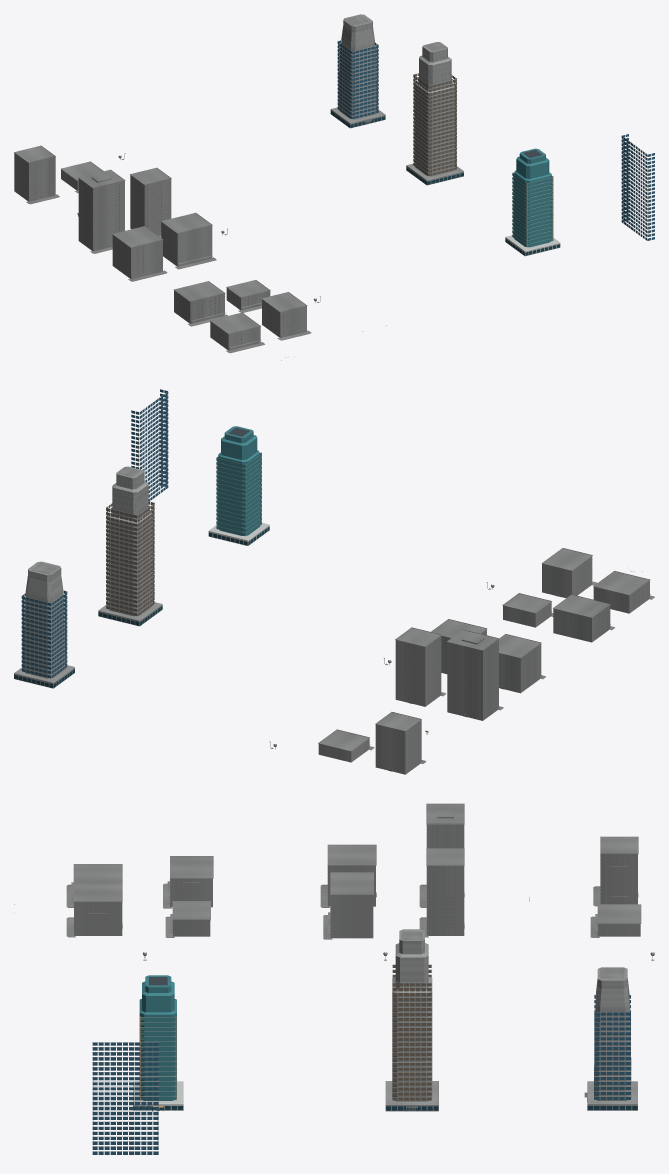
The model's file is cell_2_-2_lod1.gltf.
The picture shows the model from 3 angles, top to bottom: view 1: azimuth 30°, elevation 25°; view 2: azimuth 150°, elevation 25°; view 3: azimuth 270°, elevation 25°; orthographic projection. The views are drawn at different scales.
Visible parts, largest first — view 1: GIDI_VICTORIA_ISLAND_CBD_V2_MESH, EKO_HARBOUR_HOTEL_01, EKO_BATCH_EKO_|_deep_Atlantic_blue_glass, EKO_ENTRY_DOOR_EKO_RESIDENCE_COURT_01, EKO_BATCH_EKO_|_smoked_bronze_glass, EKO_RETAIL_PODIUM_EKO_RESIDENCE_COURT_01, EKO_ENTRY_PIER_A_EKO_HARBOUR_HOTEL_01, EKO_BATCH_EKO_|_retail_storefront_glass; view 2: GIDI_VICTORIA_ISLAND_CBD_V2_MESH, EKO_HARBOUR_HOTEL_01, EKO_BATCH_EKO_|_deep_Atlantic_blue_glass, EKO_ENTRY_DOOR_EKO_RESIDENCE_COURT_01, EKO_BATCH_EKO_|_smoked_bronze_glass, EKO_RETAIL_PODIUM_EKO_RESIDENCE_COURT_01, EKO_ENTRY_PIER_A_EKO_HARBOUR_HOTEL_01, EKO_BATCH_EKO_|_retail_storefront_glass; view 3: GIDI_VICTORIA_ISLAND_CBD_V2_MESH, EKO_BATCH_EKO_|_deep_Atlantic_blue_glass, EKO_HARBOUR_HOTEL_01, EKO_RETAIL_PODIUM_EKO_RESIDENCE_COURT_01, EKO_ENTRY_DOOR_EKO_RESIDENCE_COURT_01, EKO_BATCH_EKO_|_smoked_bronze_glass, EKO_ENTRY_PIER_A_EKO_HARBOUR_HOTEL_01, EKO_BATCH_EKO_|_retail_storefront_glass.
Part boxes in pixels (left/top/right/bottom): GIDI_VICTORIA_ISLAND_CBD_V2_MESH: left=14, top=145, right=386, bottom=353; EKO_HARBOUR_HOTEL_01: left=339, top=14, right=455, bottom=176; EKO_BATCH_EKO_|_deep_Atlantic_blue_glass: left=337, top=40, right=654, bottom=240; EKO_ENTRY_DOOR_EKO_RESIDENCE_COURT_01: left=512, top=148, right=553, bottom=247; EKO_BATCH_EKO_|_smoked_bronze_glass: left=413, top=73, right=456, bottom=176; EKO_RETAIL_PODIUM_EKO_RESIDENCE_COURT_01: left=337, top=40, right=646, bottom=256; EKO_ENTRY_PIER_A_EKO_HARBOUR_HOTEL_01: left=330, top=107, right=463, bottom=185; EKO_BATCH_EKO_|_retail_storefront_glass: left=330, top=111, right=560, bottom=255; GIDI_VICTORIA_ISLAND_CBD_V2_MESH: left=269, top=548, right=654, bottom=774; EKO_HARBOUR_HOTEL_01: left=23, top=466, right=152, bottom=678; EKO_BATCH_EKO_|_deep_Atlantic_blue_glass: left=21, top=389, right=168, bottom=678; EKO_ENTRY_DOOR_EKO_RESIDENCE_COURT_01: left=216, top=426, right=261, bottom=535; EKO_BATCH_EKO_|_smoked_bronze_glass: left=106, top=502, right=154, bottom=615; EKO_RETAIL_PODIUM_EKO_RESIDENCE_COURT_01: left=21, top=391, right=269, bottom=675; EKO_ENTRY_PIER_A_EKO_HARBOUR_HOTEL_01: left=14, top=602, right=162, bottom=688; EKO_BATCH_EKO_|_retail_storefront_glass: left=14, top=526, right=269, bottom=687; GIDI_VICTORIA_ISLAND_CBD_V2_MESH: left=66, top=803, right=654, bottom=960; EKO_BATCH_EKO_|_deep_Atlantic_blue_glass: left=92, top=995, right=630, bottom=1154; EKO_HARBOUR_HOTEL_01: left=392, top=929, right=631, bottom=1101; EKO_RETAIL_PODIUM_EKO_RESIDENCE_COURT_01: left=92, top=964, right=631, bottom=1151; EKO_ENTRY_DOOR_EKO_RESIDENCE_COURT_01: left=139, top=975, right=176, bottom=1110; EKO_BATCH_EKO_|_smoked_bronze_glass: left=392, top=965, right=431, bottom=1100; EKO_ENTRY_PIER_A_EKO_HARBOUR_HOTEL_01: left=385, top=1081, right=637, bottom=1111; EKO_BATCH_EKO_|_retail_storefront_glass: left=133, top=1106, right=637, bottom=1110.
Size of the model in its own units: 490 by 136 by 480.
Materials: 12 (3 with a texture image).
